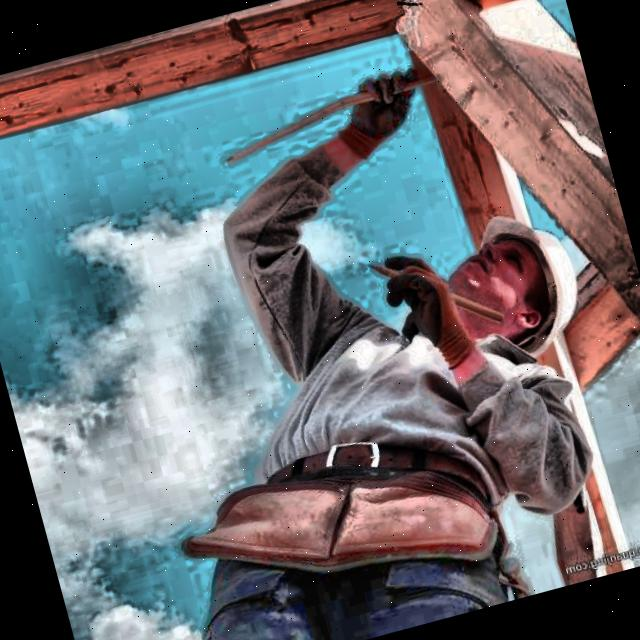helmet: (416, 198, 598, 380)
